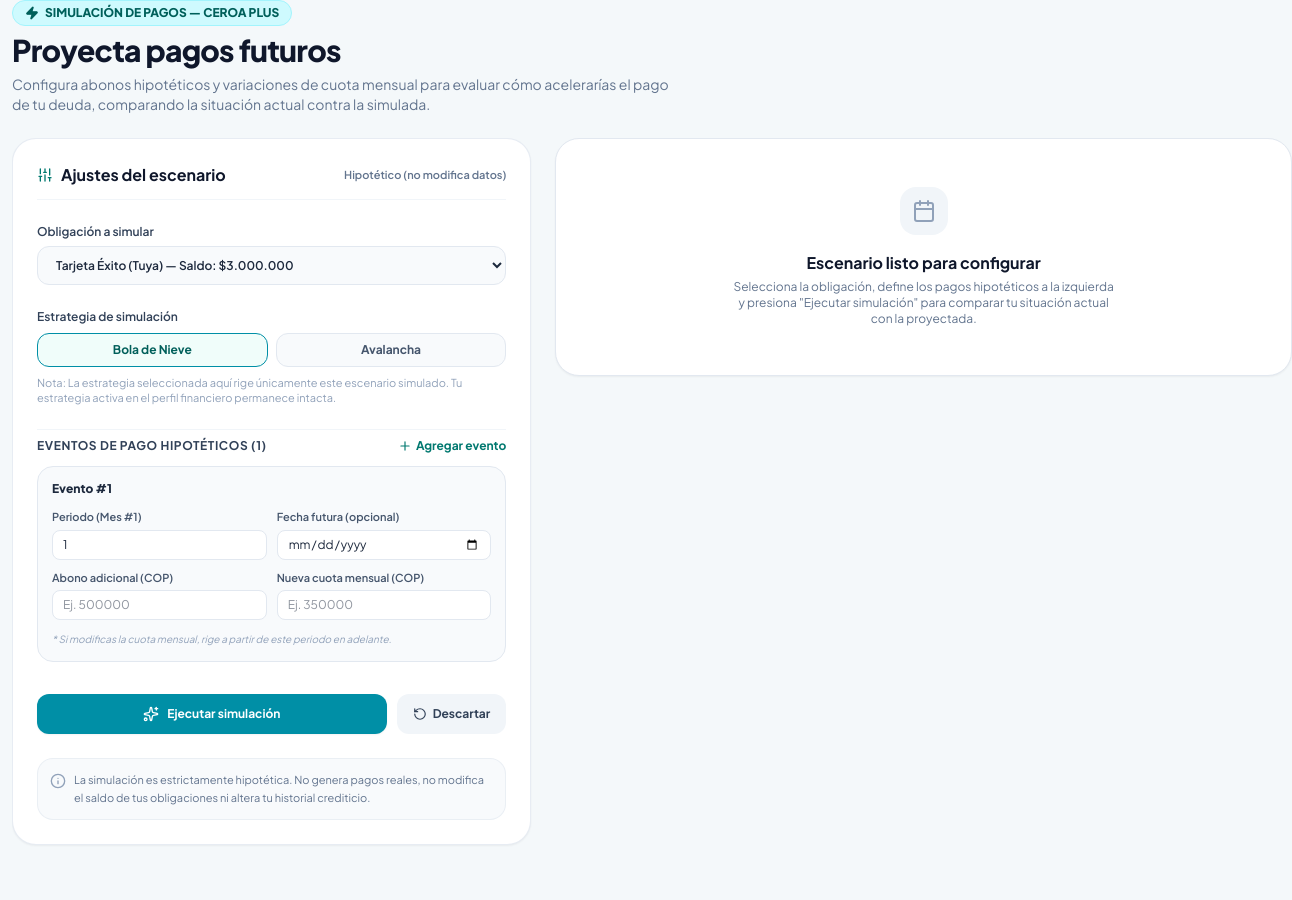
Test: EP-11 — Simulación de pagos (HU-045, HU-046, HU-047) › HU-045: Crear escenario de simulación › CA-05: Validación local rechaza eventos con montos <= 0 o sin modificación
The width and height of the screenshot is (1292, 900).
Click the button "Ejecutar simulación" at (212, 714), box [37,694,387,734]
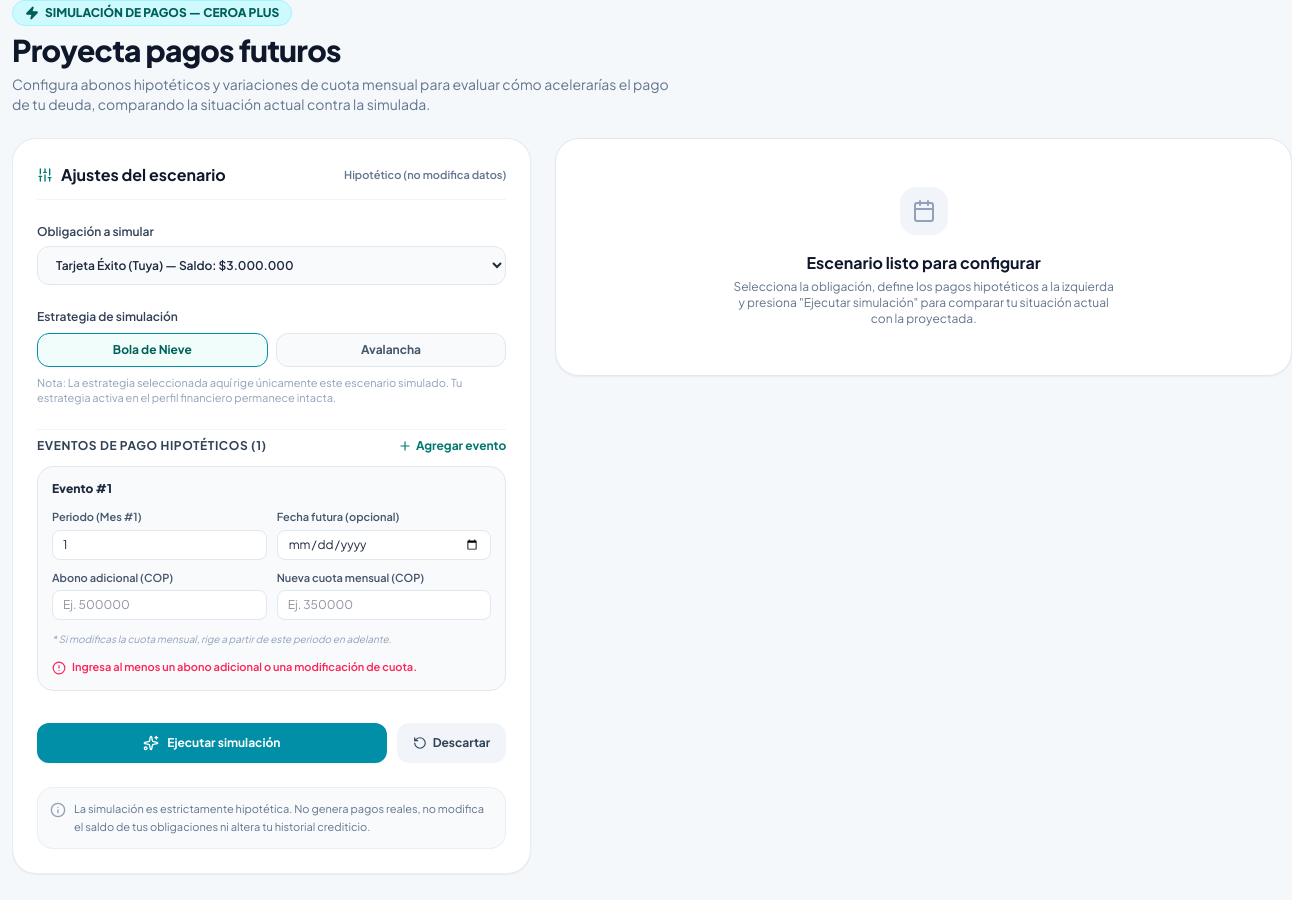
Check: the text "Ingresa al menos un abono adicional o una modificación de cuota." is shown, box [72,659,417,676]
Ingresar valor negativo
Type "-1000" into the number field with placeholder "Ej. 500000" at (159, 605), box [52,590,267,620]
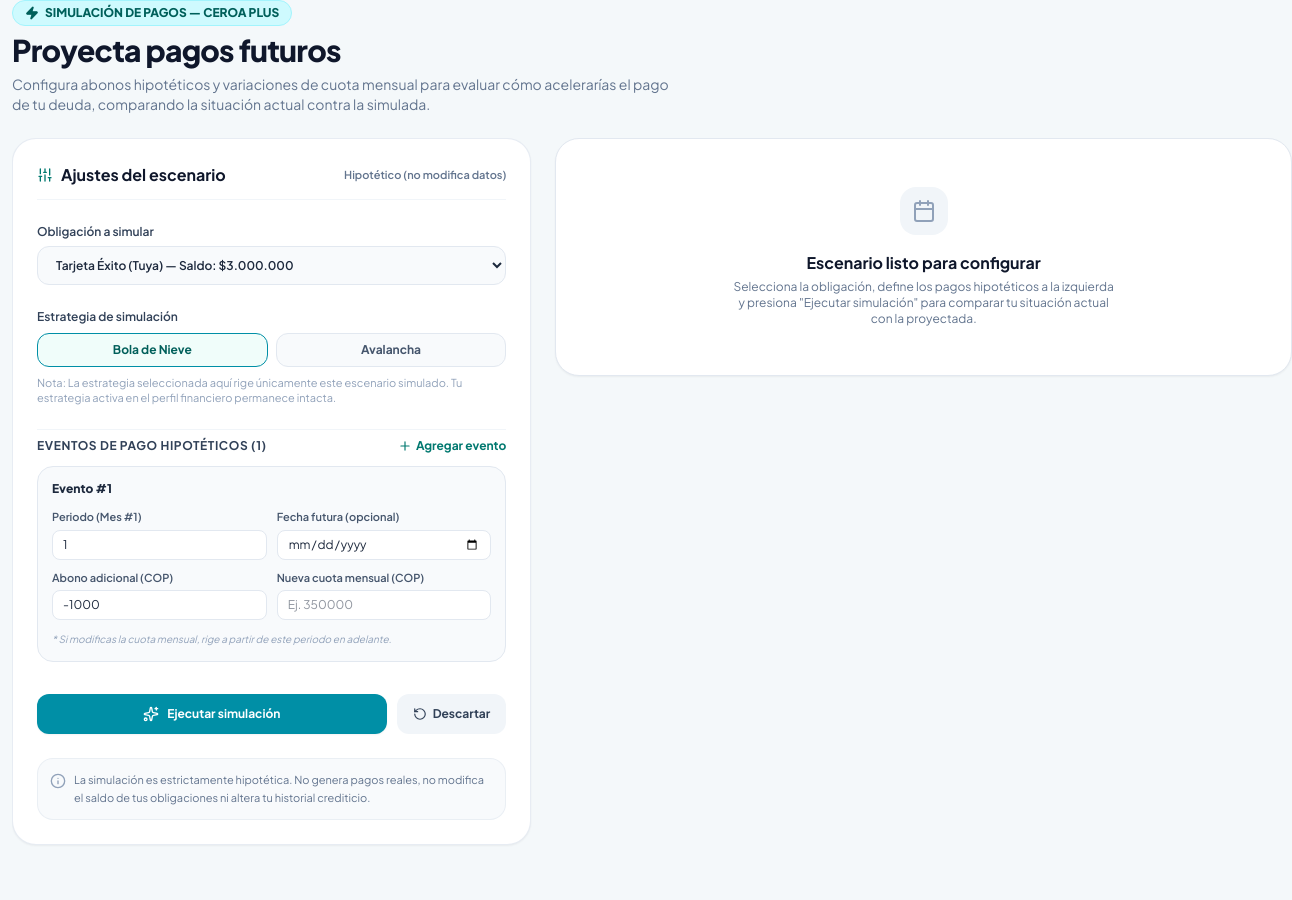
Click the button "Ejecutar simulación" at (212, 714), box [37,694,387,734]
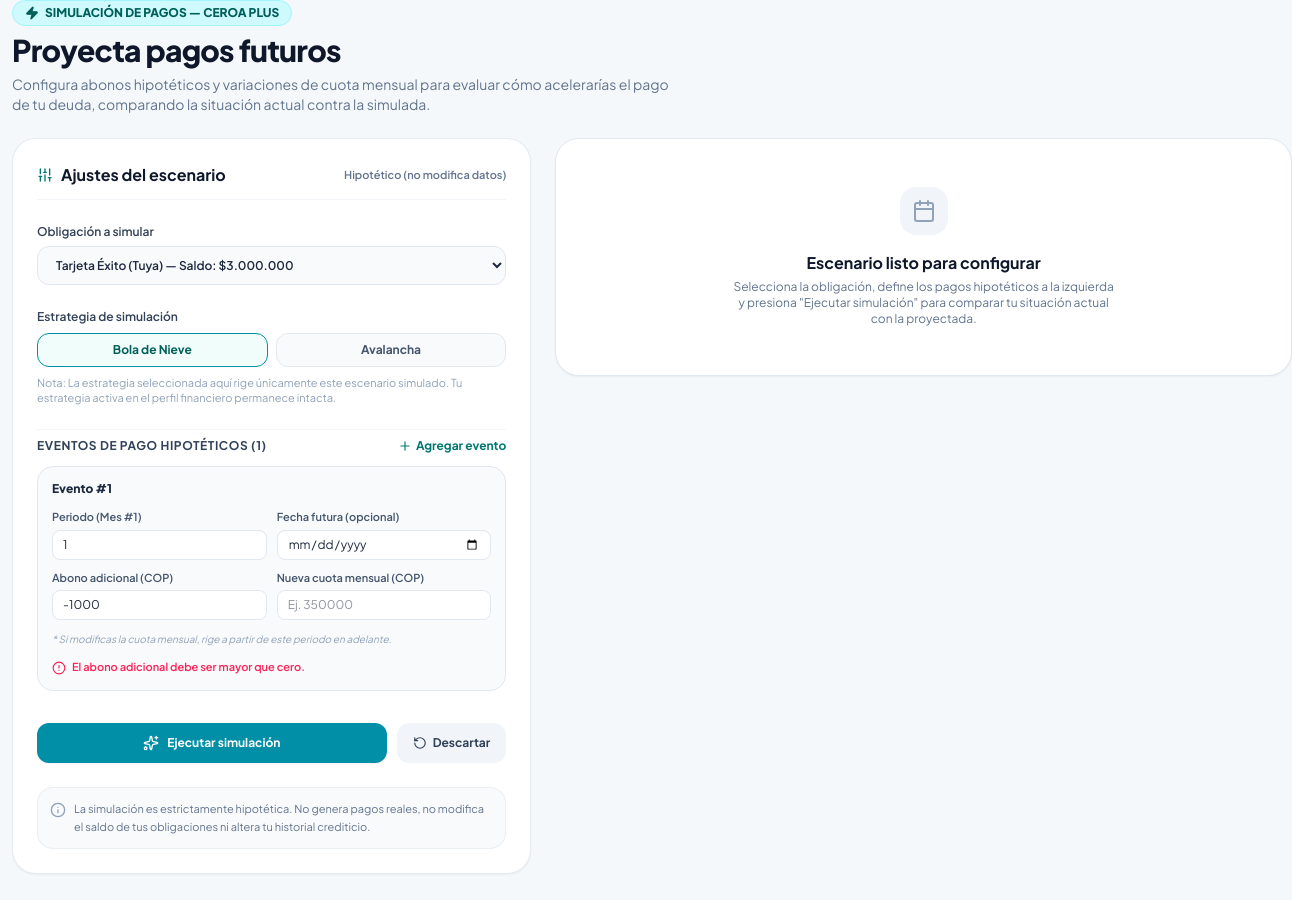
Check: the text "El abono adicional debe ser mayor que cero." is shown, box [72,659,305,676]
